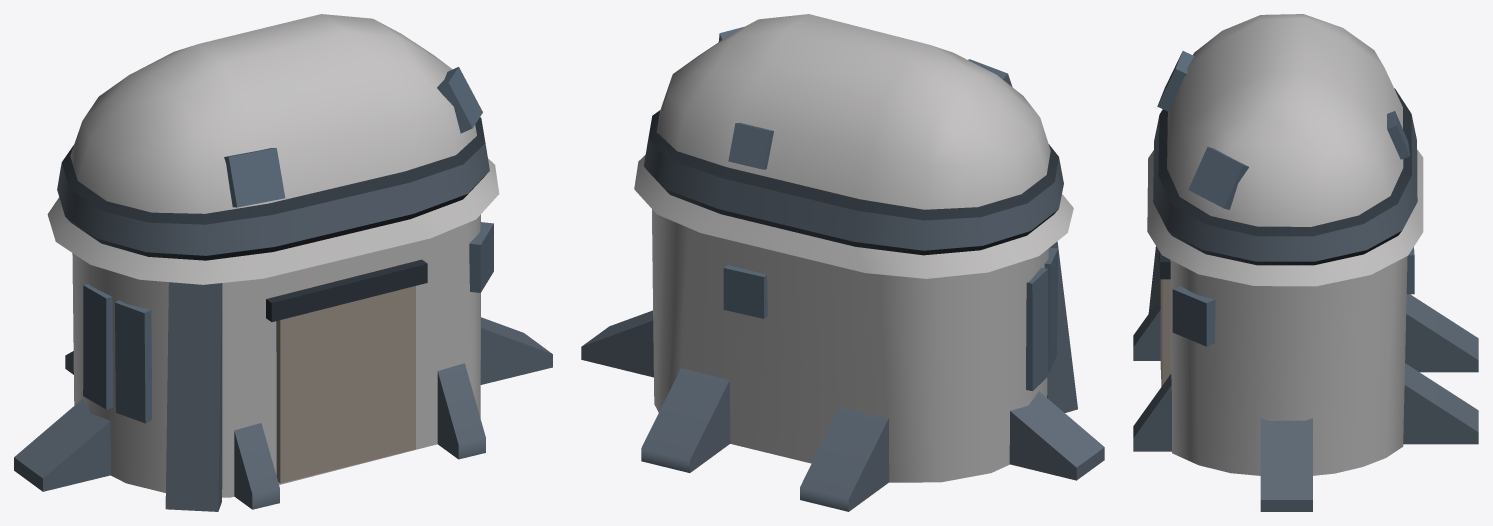
The model's file is travel house 1.fbx.
3 renders of one model, left to right at view 1: azimuth 30°, elevation 25°; view 2: azimuth 150°, elevation 25°; view 3: azimuth 270°, elevation 25°, orthographic. The views are drawn at different scales.
Parts seen in each view (by area): view 1: PM3D_Sphere3D21; view 2: PM3D_Sphere3D21; view 3: PM3D_Sphere3D21.
Part boxes in pixels (x1,y1,x2,y2): PM3D_Sphere3D21: [14, 14, 552, 511]; PM3D_Sphere3D21: [581, 14, 1104, 511]; PM3D_Sphere3D21: [1133, 14, 1478, 511].
Size of the model in its own units: 789 by 577 by 512.
